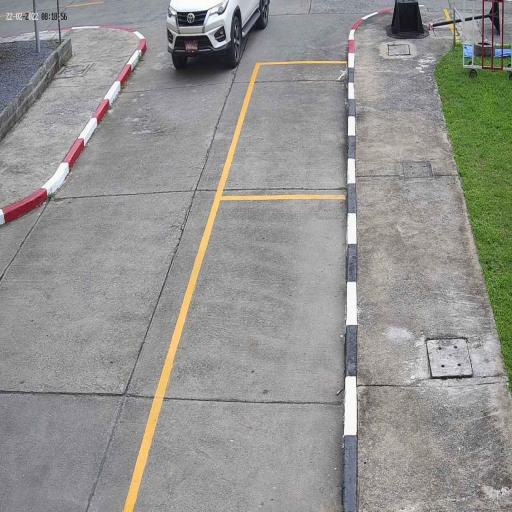car: (165, 0, 272, 66)
